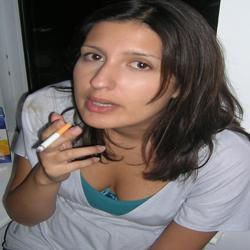smoking: (34, 121, 76, 161)
